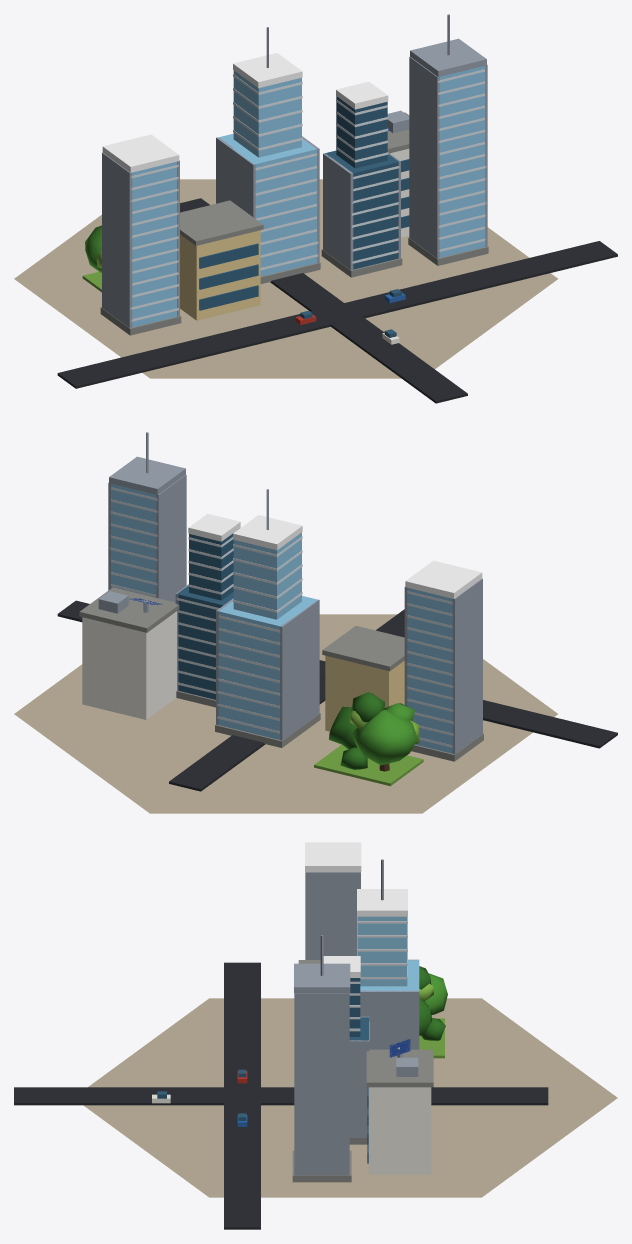
File: city_3_2.fbx
3 views of the same model, one above another, from view 1: azimuth 30°, elevation 25°; view 2: azimuth 150°, elevation 25°; view 3: azimuth 270°, elevation 25° (orthographic).
Visible parts, largest first — view 1: city_3_2; view 2: city_3_2; view 3: city_3_2.
Part boxes in pixels (bbox=[...]): city_3_2: bbox=[14, 14, 617, 403]; city_3_2: bbox=[14, 432, 617, 813]; city_3_2: bbox=[14, 842, 617, 1229].
Size of the model in its own units: 241 by 101 by 233.
